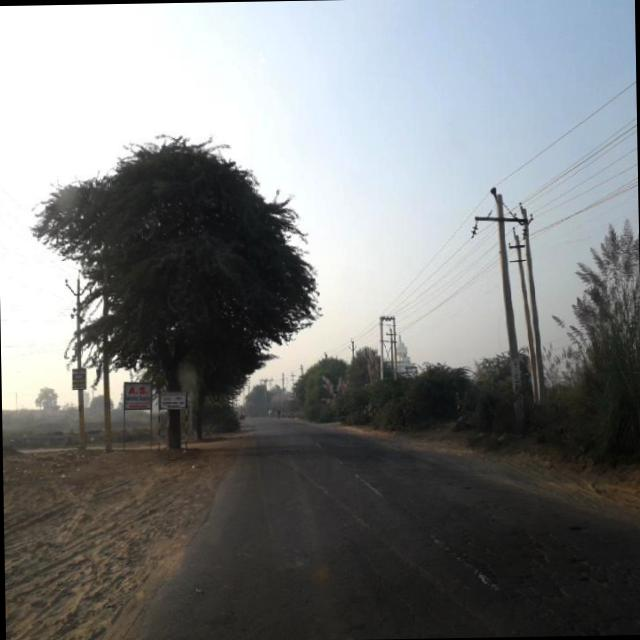crack: (445, 496, 640, 635)
